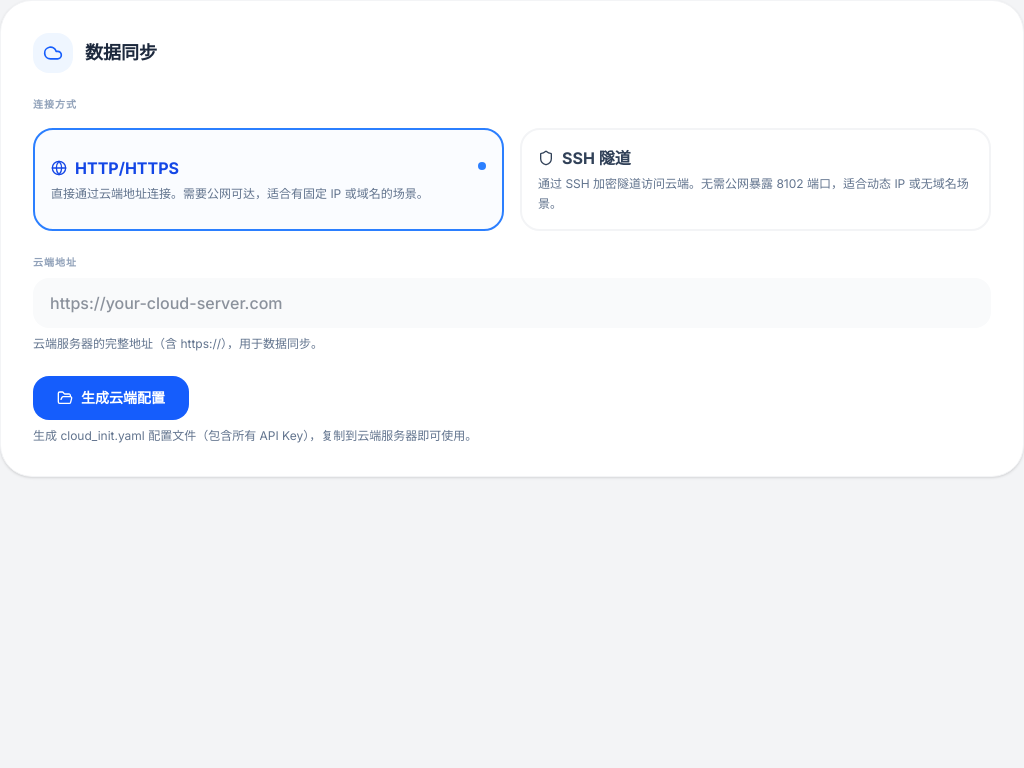
Test: SyncConfigSection › Seam 3: 根据 key_is_new 显示不同提示 › should display result info panel with cloud_config_path after generation
Click the button "生成云端配置" at (111, 398), box [33, 376, 189, 420]
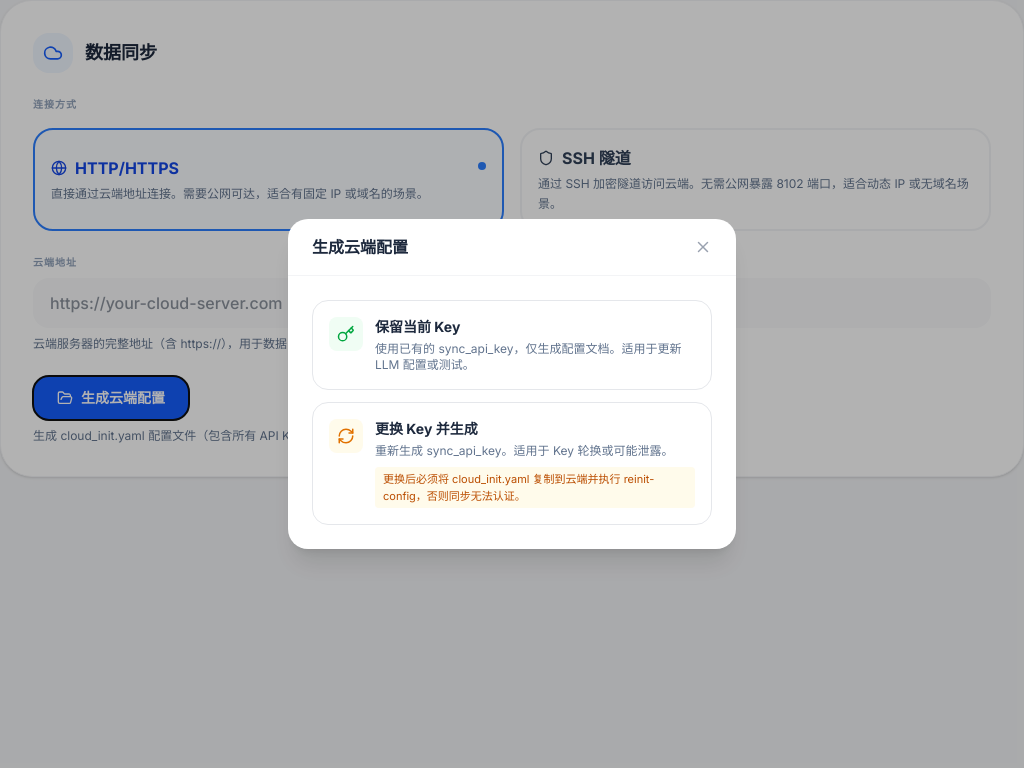
Now the button "保留当前 Key 使用已有的 sync_api_key，仅生成配置文档。适用于更新 LLM 配置或测试。" is shown
Click the button "保留当前 Key 使用已有的 sync_api_key，仅生成配置文档。适用于更新 LLM 配置或测试。" at (512, 345), box [312, 300, 712, 390]
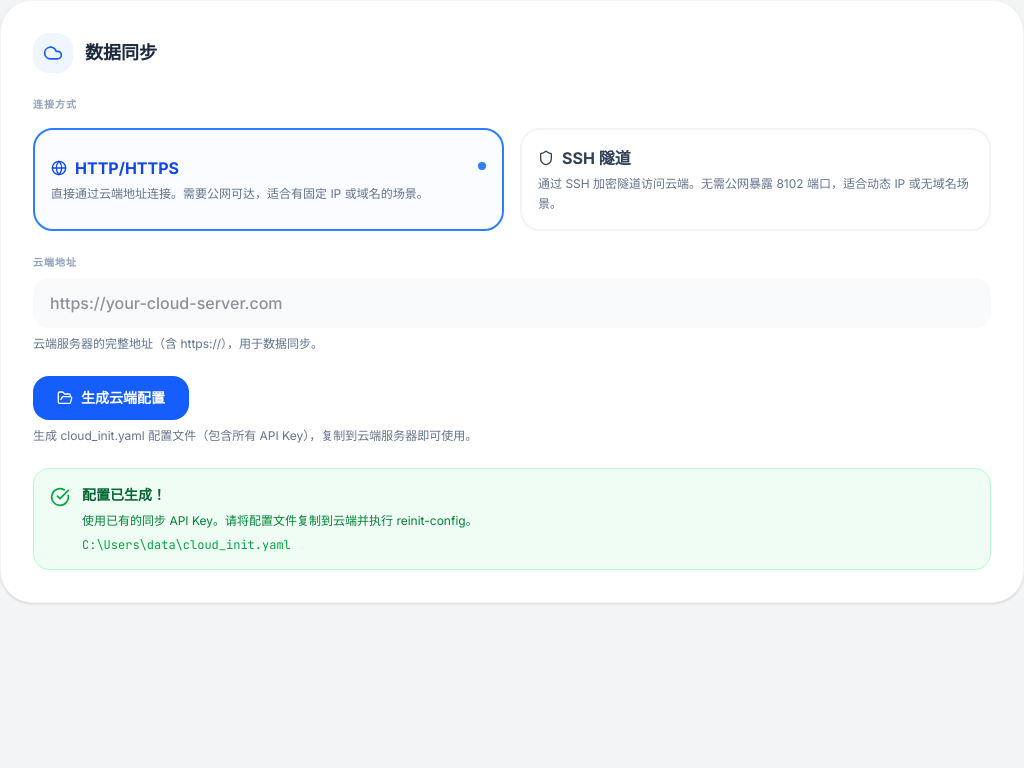
Now the text "C:\\Users\\data\\cloud_init.yaml" is shown, box [82, 537, 291, 553]
